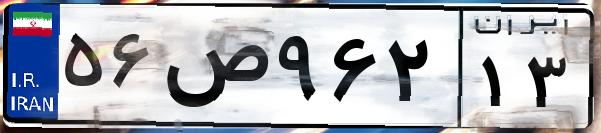1: (475, 38, 525, 113)
2: (385, 28, 445, 110)
3: (525, 38, 570, 115)
5: (57, 26, 110, 100)
6: (330, 28, 385, 110), (110, 28, 158, 98)
9: (270, 28, 330, 110)
ص: (158, 20, 270, 120)
